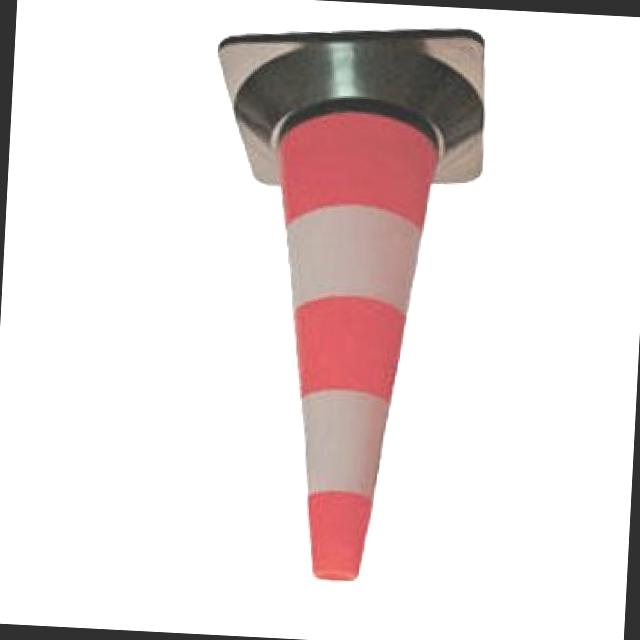cone: (190, 48, 497, 591)
